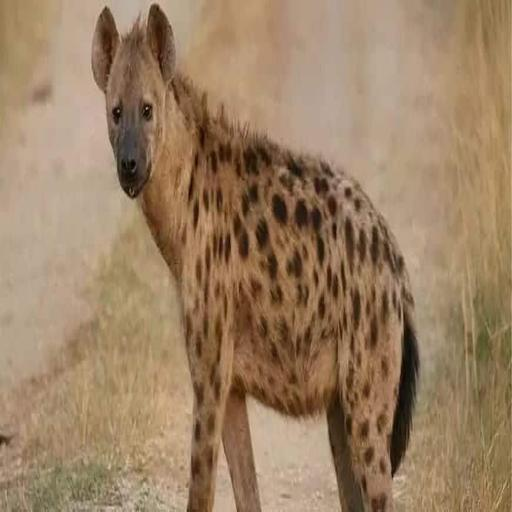Hyena: (84, 2, 429, 512)
